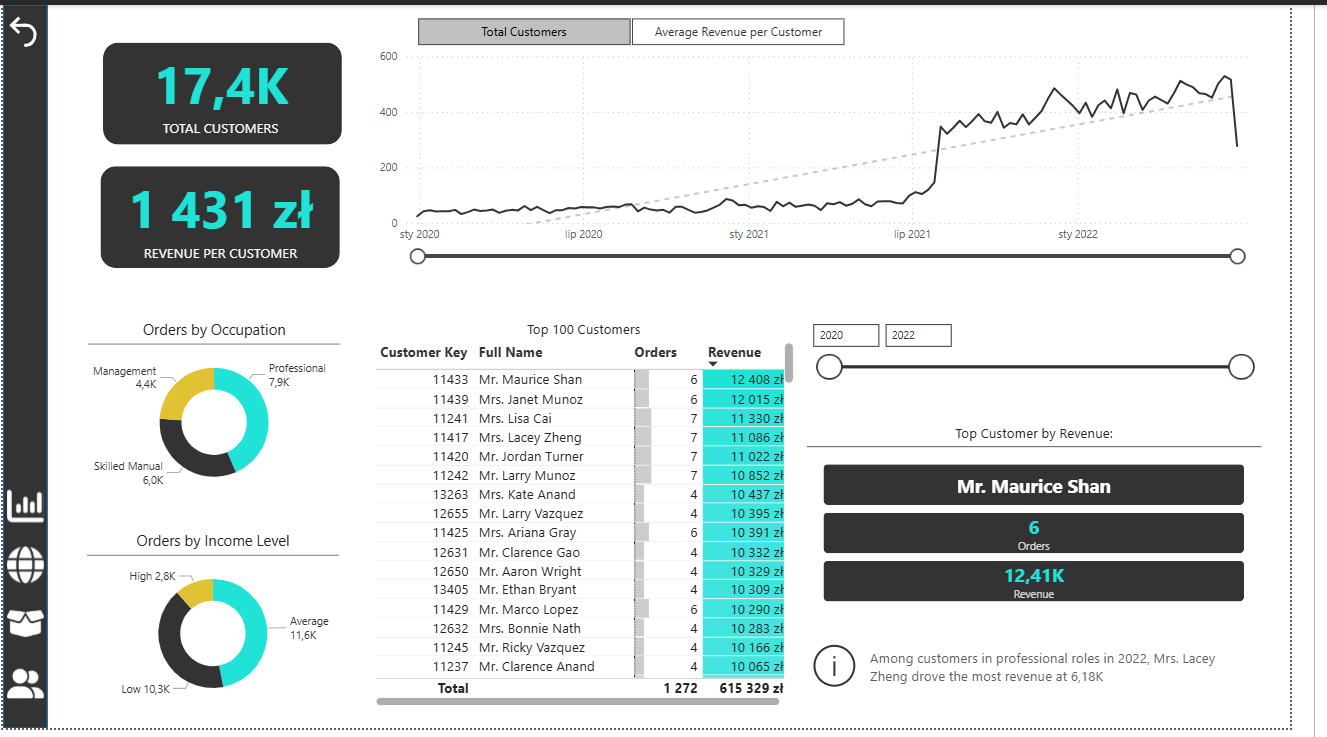

Layout of this report page (visuals, bound fields, positions):
{"tool":"powerbi","page":{"name":"Customer Detail","canvas":[1280,720],"ordinal":3},"visuals":[{"type":"shape","title":"Left Nav Background","box":[0,0,44.4,720],"z":0},{"type":"shape","box":[98.9,37.4,237.9,101.8],"z":0,"group":"g3"},{"type":"shape","box":[97.4,160.7,238.1,101.3],"z":0,"group":"g2"},{"type":"group","id":"g1","title":"KPI","box":[79.6,17.1,274.1,265.1],"z":1000},{"type":"cardVisual","fields":{"Data":["Measure Table DAX.Ilość Klientów"]},"box":[80.2,17.1,272.9,140.8],"z":1000,"group":"g3"},{"type":"group","id":"g2","title":"KPI 2","box":[79.6,139,274.1,143.2],"z":1000,"group":"g1"},{"type":"cardVisual","fields":{"Data":["Measure Table DAX.Average Revenue per Customer"]},"box":[79.6,139,274.1,143.2],"z":1000,"group":"g2"},{"type":"group","id":"g3","title":"KPI 1","box":[80.2,17.1,272.9,140.8],"z":2000,"group":"g1"},{"type":"lineChart","title":"Customers Trandings","fields":{"Category":["Calendar Lookup.Date Hierarchy.Początek roku","Calendar Lookup.Date Hierarchy.Początek miesiąca","Calendar Lookup.Date Hierarchy.Początek tygodnia"],"Y":["Measure Table DAX.Average Revenue per Customer"]},"box":[368.9,37.3,883.9,223.7],"z":2000},{"type":"donutChart","title":"Orders by Income Level","fields":{"Category":["Customer Lookup.Income Level"],"Y":["Measure Table DAX.Ilość Zamówień"]},"box":[82.9,522.9,251.4,178.6],"z":3000},{"type":"donutChart","title":"Orders by Occupation","fields":{"Category":["Customer Lookup.Occupation"],"Y":["Measure Table DAX.Ilość Zamówień"]},"box":[84.3,312.6,251.4,178.6],"z":4000},{"type":"tableEx","title":"Top 100 Customers","fields":{"Values":["Customer Lookup.CustomerKey","Customer Lookup.Customer Full Name (CC)","Measure Table DAX.Ilość Zamówień","Measure Table DAX.Total Revenue"]},"box":[364,313,427,389],"z":5000},{"type":"cardVisual","title":"Top Customer by Revenue:","fields":{"Data":["Customer Lookup.Full Name (Customer Detail)","Measure Table DAX.Total Orders (Customer Detail)","Measure Table DAX.Total Revenue (Customer Detail)"]},"box":[800.3,417.3,452.5,193.5],"z":6000},{"type":"slicer","fields":{"Values":["Calendar Lookup.Rok"]},"box":[793.2,307.4,459.6,74.6],"z":7000},{"type":"actionButton","box":[0,6,44.3,40.3],"z":8000},{"type":"actionButton","box":[800.4,624.1,437.2,67],"z":9000},{"type":"actionButton","box":[0,473.7,44.7,49.4],"z":10000},{"type":"actionButton","box":[0,650,44.7,49.4],"z":11000},{"type":"actionButton","box":[0,591.2,44.7,49.4],"z":12000},{"type":"actionButton","box":[0,532.5,44.7,49.4],"z":13000},{"type":"slicer","fields":{"Values":["Customer Metric Selection.Customer Metric Selection"]},"box":[387,6,474.7,40.3],"z":13001}]}

Visuals, with their boxes on the page's 1280x720 design canvas (x1, y1, x2, y2). These are canvas units, not pixel positions in the 1327x737 screenshot, which may show the page scaled, cropped or inside an application window:
"Left Nav Background" shape: [left=0, top=0, right=44, bottom=720]
shape: [left=99, top=37, right=337, bottom=139]
shape: [left=97, top=161, right=336, bottom=262]
"KPI" group: [left=80, top=17, right=354, bottom=282]
cardVisual - Measure Table DAX.Ilość Klientów: [left=80, top=17, right=353, bottom=158]
"KPI 2" group: [left=80, top=139, right=354, bottom=282]
cardVisual - Measure Table DAX.Average Revenue per Customer: [left=80, top=139, right=354, bottom=282]
"KPI 1" group: [left=80, top=17, right=353, bottom=158]
"Customers Trandings" lineChart: [left=369, top=37, right=1253, bottom=261]
"Orders by Income Level" donutChart: [left=83, top=523, right=334, bottom=702]
"Orders by Occupation" donutChart: [left=84, top=313, right=336, bottom=491]
"Top 100 Customers" tableEx: [left=364, top=313, right=791, bottom=702]
"Top Customer by Revenue:" cardVisual: [left=800, top=417, right=1253, bottom=611]
slicer - Calendar Lookup.Rok: [left=793, top=307, right=1253, bottom=382]
actionButton: [left=0, top=6, right=44, bottom=46]
actionButton: [left=800, top=624, right=1238, bottom=691]
actionButton: [left=0, top=474, right=45, bottom=523]
actionButton: [left=0, top=650, right=45, bottom=699]
actionButton: [left=0, top=591, right=45, bottom=641]
actionButton: [left=0, top=532, right=45, bottom=582]
slicer - Customer Metric Selection.Customer Metric Selection: [left=387, top=6, right=862, bottom=46]
